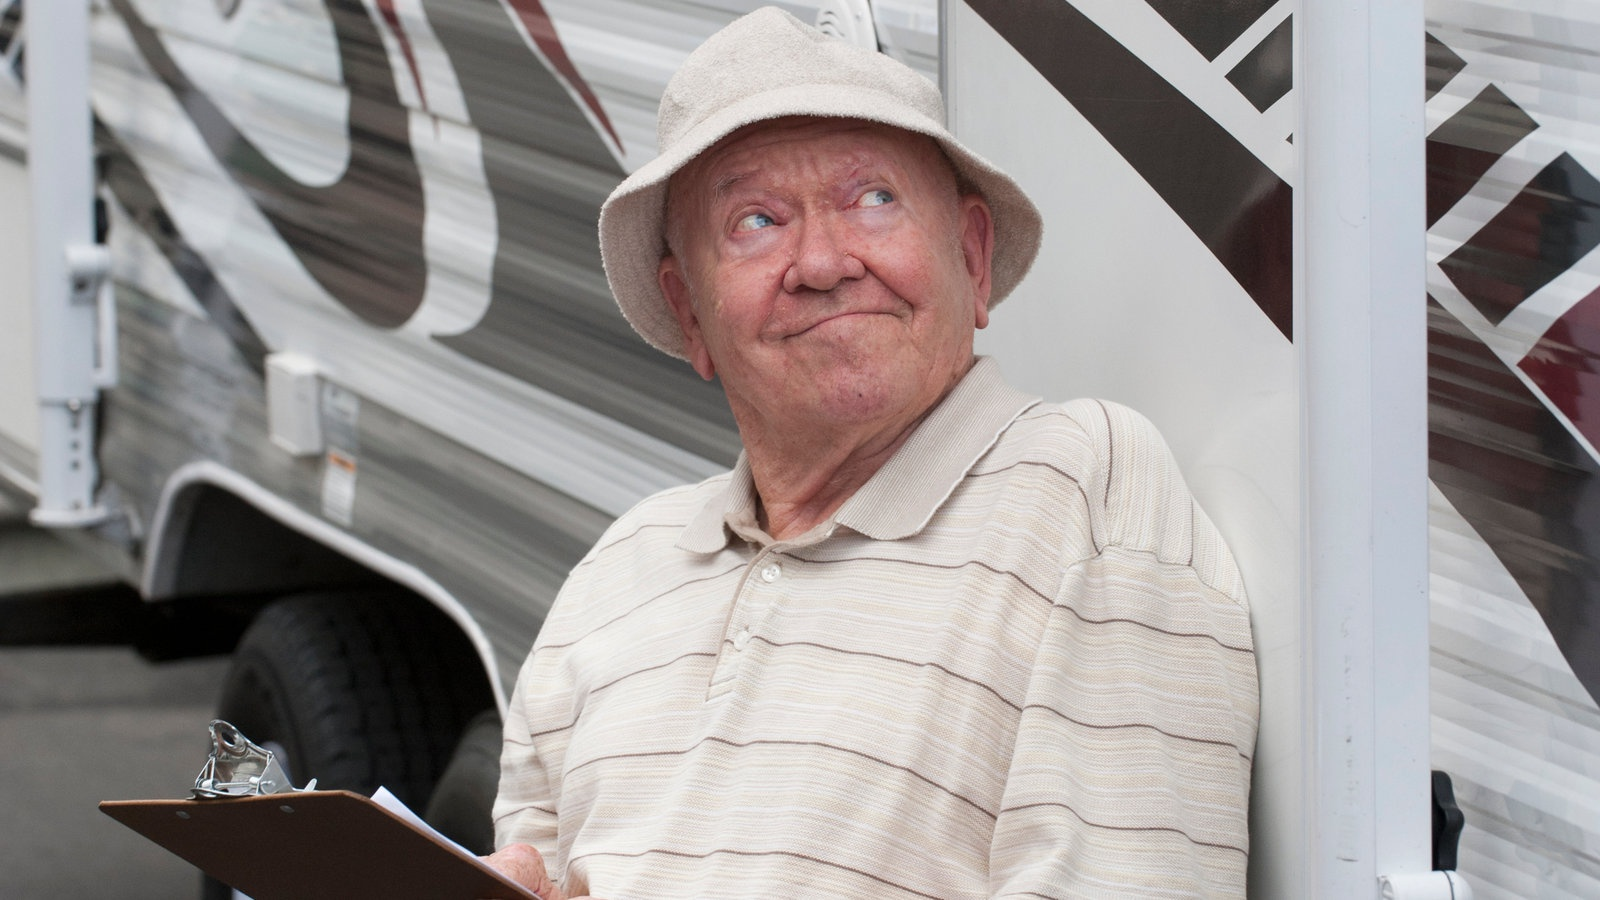bad: (676, 142, 943, 409)
